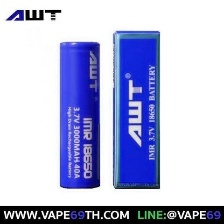battery: (110, 26, 164, 192), (57, 40, 102, 189)
